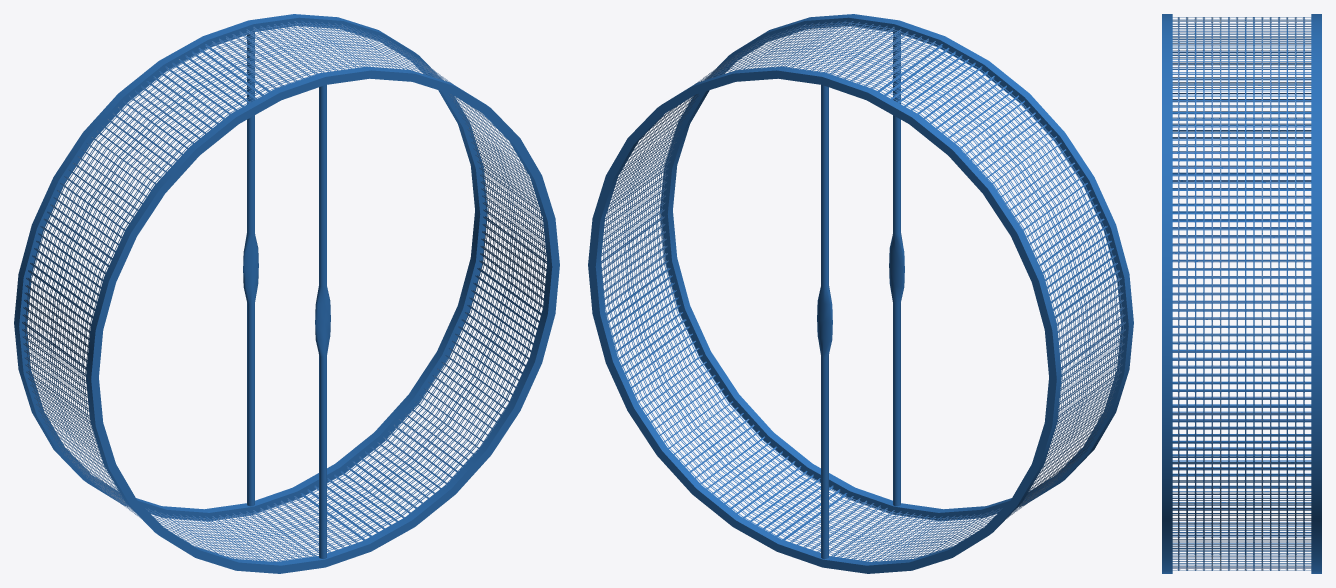
File: Ruota_B.fbx
3 views of the same model, side by side, from view 1: azimuth 30°, elevation 25°; view 2: azimuth 150°, elevation 25°; view 3: azimuth 270°, elevation 25° (orthographic). The views are drawn at different scales.
Parts seen in each view (by area): view 1: Plane.001; view 2: Plane.001; view 3: Plane.001.
Part boxes in pixels (x1,y1,x2,y2): Plane.001: [14, 14, 559, 573]; Plane.001: [588, 14, 1133, 573]; Plane.001: [1162, 14, 1321, 573].
Size of the model in its own units: 6538 by 6538 by 1863.
1 material, 1 textured.
